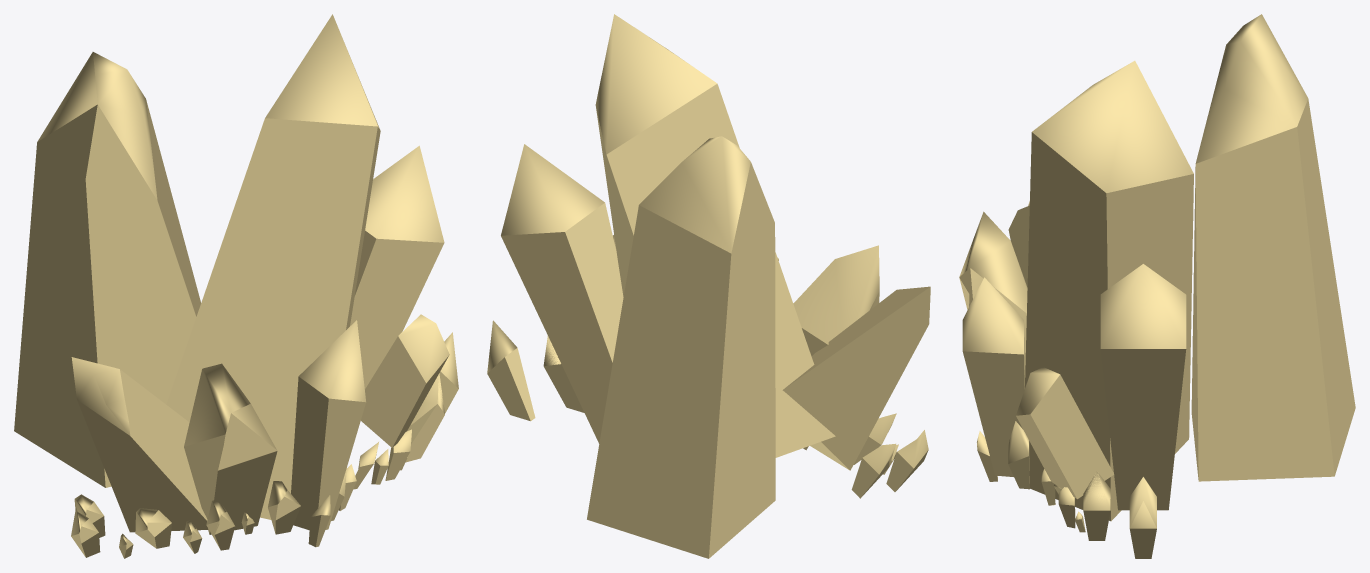
The model's file is Gold.fbx.
3 views of the same model, side by side, from view 1: azimuth 30°, elevation 25°; view 2: azimuth 150°, elevation 25°; view 3: azimuth 270°, elevation 25° (orthographic). The views are drawn at different scales.
Visible parts, largest first — view 1: pCube7, pCube1, pCube6, pCube10, pCube5, pCube4, pCube2, pCube26, pCube14, pCube12, pCube11, pCube13 (+4 smaller); view 2: pCube7, pCube1, pCube10, pCube6, pCube5, pCube25, pCube13, pCube19, pCube26, pCube12; view 3: pCube7, pCube1, pCube10, pCube4, pCube2, pCube5, pCube25, pCube26, pCube15, pCube6, pCube18.
Boxes of the visible parts, box(x1,y1,x2,y2) form: pCube7: box(14, 52, 200, 487); pCube1: box(166, 14, 380, 519); pCube6: box(71, 357, 207, 532); pCube10: box(350, 145, 444, 389); pCube5: box(184, 363, 277, 534); pCube4: box(291, 320, 366, 530); pCube2: box(361, 314, 449, 447); pCube26: box(405, 373, 444, 462); pCube14: box(268, 481, 300, 534); pCube12: box(135, 508, 171, 548); pCube11: box(206, 500, 235, 550); pCube13: box(71, 507, 100, 557); pCube7: box(587, 136, 775, 558); pCube1: box(595, 14, 835, 457); pCube10: box(501, 144, 623, 443); pCube6: box(782, 286, 930, 470); pCube5: box(793, 245, 879, 450); pCube25: box(487, 320, 535, 421); pCube13: box(886, 430, 928, 491); pCube19: box(851, 443, 896, 498); pCube26: box(543, 335, 584, 412); pCube12: box(853, 413, 896, 464); pCube7: box(1191, 14, 1355, 481); pCube1: box(1025, 60, 1193, 521); pCube10: box(1100, 264, 1186, 510); pCube4: box(962, 277, 1024, 476); pCube2: box(1016, 367, 1114, 499); pCube5: box(959, 211, 1027, 377); pCube25: box(1129, 477, 1156, 558); pCube26: box(1083, 471, 1110, 540); pCube15: box(1008, 421, 1029, 489); pCube6: box(1008, 201, 1029, 287); pCube18: box(1058, 487, 1075, 528).
Size of the model in its own units: 455 by 481 by 366.
